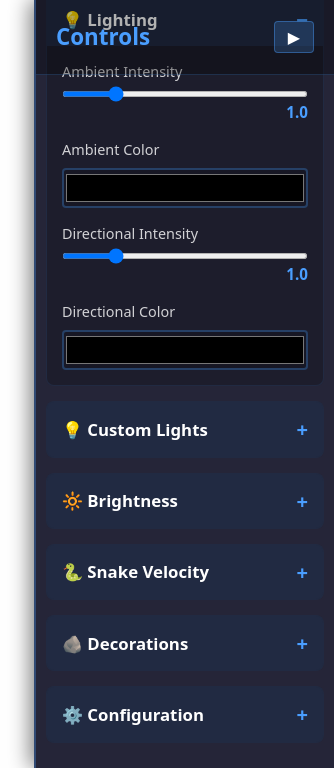
Manual Configuration Save › ControlPanel Save Button › shows "Saved!" feedback after clicking save
(page scrolled)
Click the text "⚙️ Configuration". click: (133, 714)
box: [62,702,204,727]
(page scrolled)
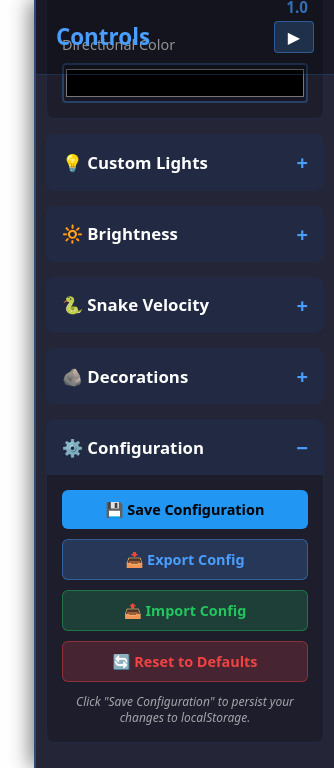
Now the button "💾 Save Configuration" is shown
Click the button "💾 Save Configuration". click: (185, 509)
box: [62,490,308,528]
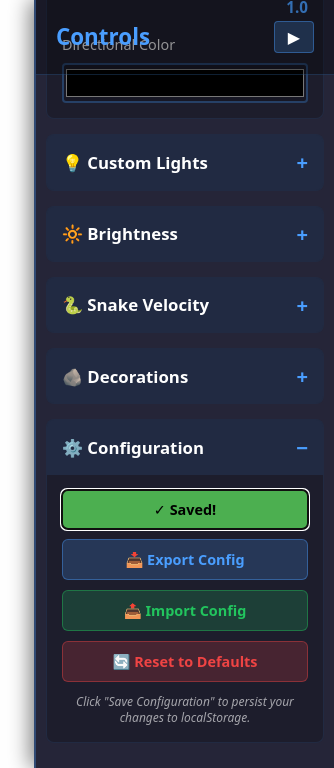
Now the button "✓ Saved!" is shown, box [62,490,308,528]
